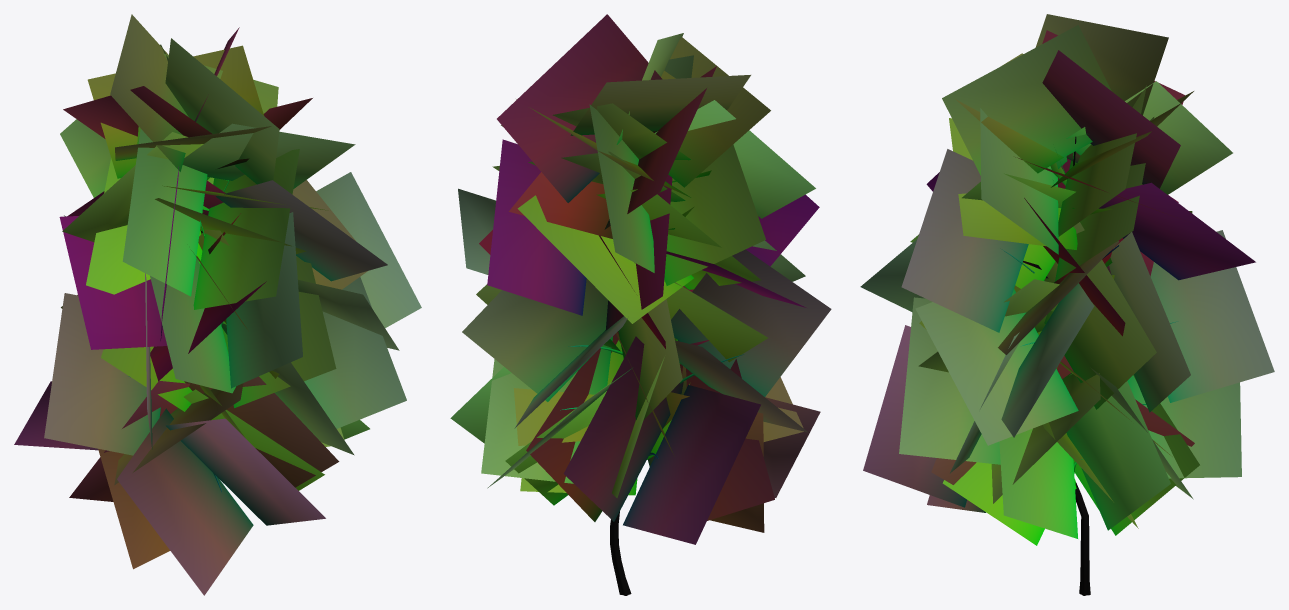
Rendered from URP_P15_Tree_10_LOD_0.fbx.
3 views of the same model, side by side, from view 1: azimuth 30°, elevation 25°; view 2: azimuth 150°, elevation 25°; view 3: azimuth 270°, elevation 25° (orthographic). The views are drawn at different scales.
Visible parts, largest first — view 1: Tree_10_LOD_0; view 2: Tree_10_LOD_0; view 3: Tree_10_LOD_0.
Part boxes in pixels (x1,y1,x2,y2): Tree_10_LOD_0: [14, 14, 421, 595]; Tree_10_LOD_0: [450, 14, 831, 595]; Tree_10_LOD_0: [860, 14, 1274, 595].
Size of the model in its own units: 506 by 746 by 502.
